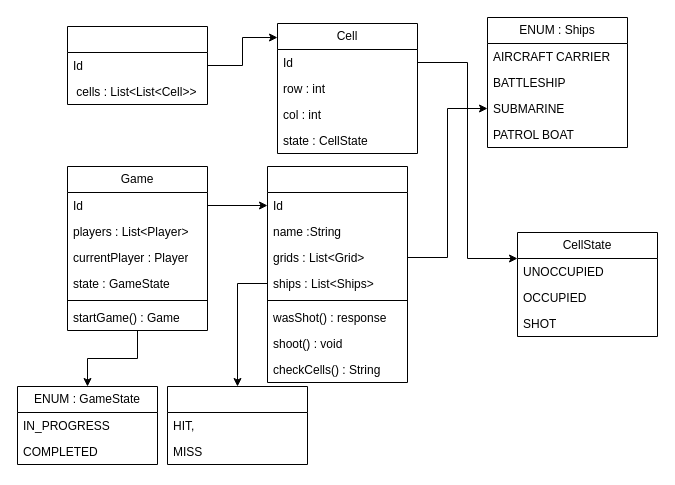
Image size: 675x485. Some labels were removed from this diagram. The box of each missing label's shape, as (x1, y1, x2, y2) in pixels:
ENUM : response: (166, 386, 308, 464)
Grid: (66, 26, 208, 104)
Player: (266, 166, 408, 382)
